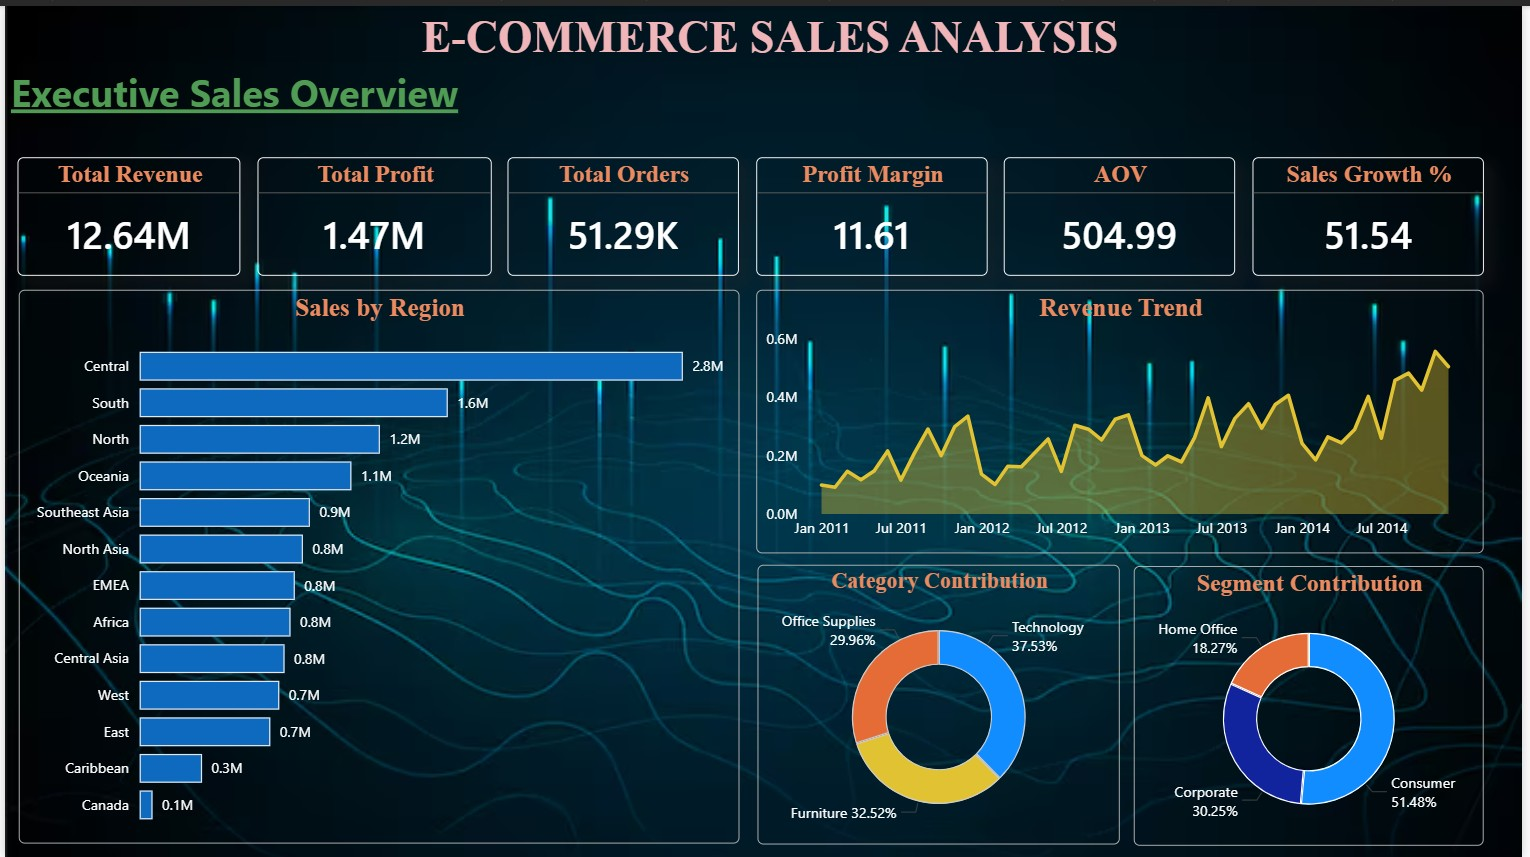

What the dashboard file says about the page in this screenshot:
{"tool":"powerbi","page":{"name":"Sales Overview","canvas":[1280,720],"ordinal":0},"visuals":[{"type":"textbox","box":[10.5,0,1269.8,68.6],"z":0},{"type":"textbox","box":[0,46.5,634.9,70.9],"z":1000},{"type":"cardVisual","title":"Total Revenue","fields":{"Data":["Sum(Global_Superstore.Sales)"]},"box":[10.5,127.9,188.4,100],"z":2000},{"type":"cardVisual","title":"Total Profit","fields":{"Data":["Sum(Global_Superstore.Profit)"]},"box":[212.8,127.9,197.7,100],"z":3000},{"type":"cardVisual","title":"Total Orders","fields":{"Data":["CountNonNull(Global_Superstore.Order ID)"]},"box":[424.4,127.9,195.3,100],"z":4000},{"type":"cardVisual","title":"Profit Margin","fields":{"Data":["Global_Superstore.Profit Margin %"]},"box":[633.7,127.9,195.3,100],"z":5000},{"type":"cardVisual","title":"AOV","fields":{"Data":["Global_Superstore.Average Order Value"]},"box":[843,127.9,195.3,100],"z":6000},{"type":"cardVisual","title":"Sales Growth %","fields":{"Data":["Global_Superstore.Sales Growth %"]},"box":[1052.3,127.9,195.3,100],"z":7000},{"type":"lineChart","title":"Revenue Trend","fields":{"Y":["Sum(Global_Superstore.Sales)"],"Category":["Global_Superstore.Order Date.Variation.Date Hierarchy.Year","Global_Superstore.Order Date.Variation.Date Hierarchy.Month"]},"box":[633.7,239.5,614,222.1],"z":8000},{"type":"clusteredBarChart","title":"Sales by Region","fields":{"Category":["Global_Superstore.Region"],"Y":["Sum(Global_Superstore.Sales)"]},"box":[11.6,239.5,608.1,467.4],"z":9000},{"type":"donutChart","title":"Category Contribution","fields":{"Y":["Sum(Global_Superstore.Sales)"],"Category":["Global_Superstore.Category"]},"box":[634.9,470.9,305.8,236],"z":10000},{"type":"tableEx","fields":{"Values":["Global_Superstore.Country","Sum(Global_Superstore.Sales)"]},"box":[955.8,470.9,291.9,236],"z":11001}]}

Visuals, with their boxes in screenshot pixels (x1, y1, x2, y2), scaled from the page's 1280x720 canvas onto the 1530x857 screenshot:
textbox: <region>13, 0, 1529, 82</region>
textbox: <region>0, 55, 759, 140</region>
"Total Revenue" cardVisual: <region>13, 152, 238, 271</region>
"Total Profit" cardVisual: <region>254, 152, 491, 271</region>
"Total Orders" cardVisual: <region>507, 152, 741, 271</region>
"Profit Margin" cardVisual: <region>757, 152, 991, 271</region>
"AOV" cardVisual: <region>1008, 152, 1241, 271</region>
"Sales Growth %" cardVisual: <region>1258, 152, 1491, 271</region>
"Revenue Trend" lineChart: <region>757, 285, 1491, 549</region>
"Sales by Region" clusteredBarChart: <region>14, 285, 741, 841</region>
"Category Contribution" donutChart: <region>759, 561, 1124, 841</region>
tableEx - Global_Superstore.Country x Sum(Global_Superstore.Sales): <region>1142, 561, 1491, 841</region>
